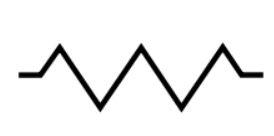resistor: (26, 41, 246, 120)
